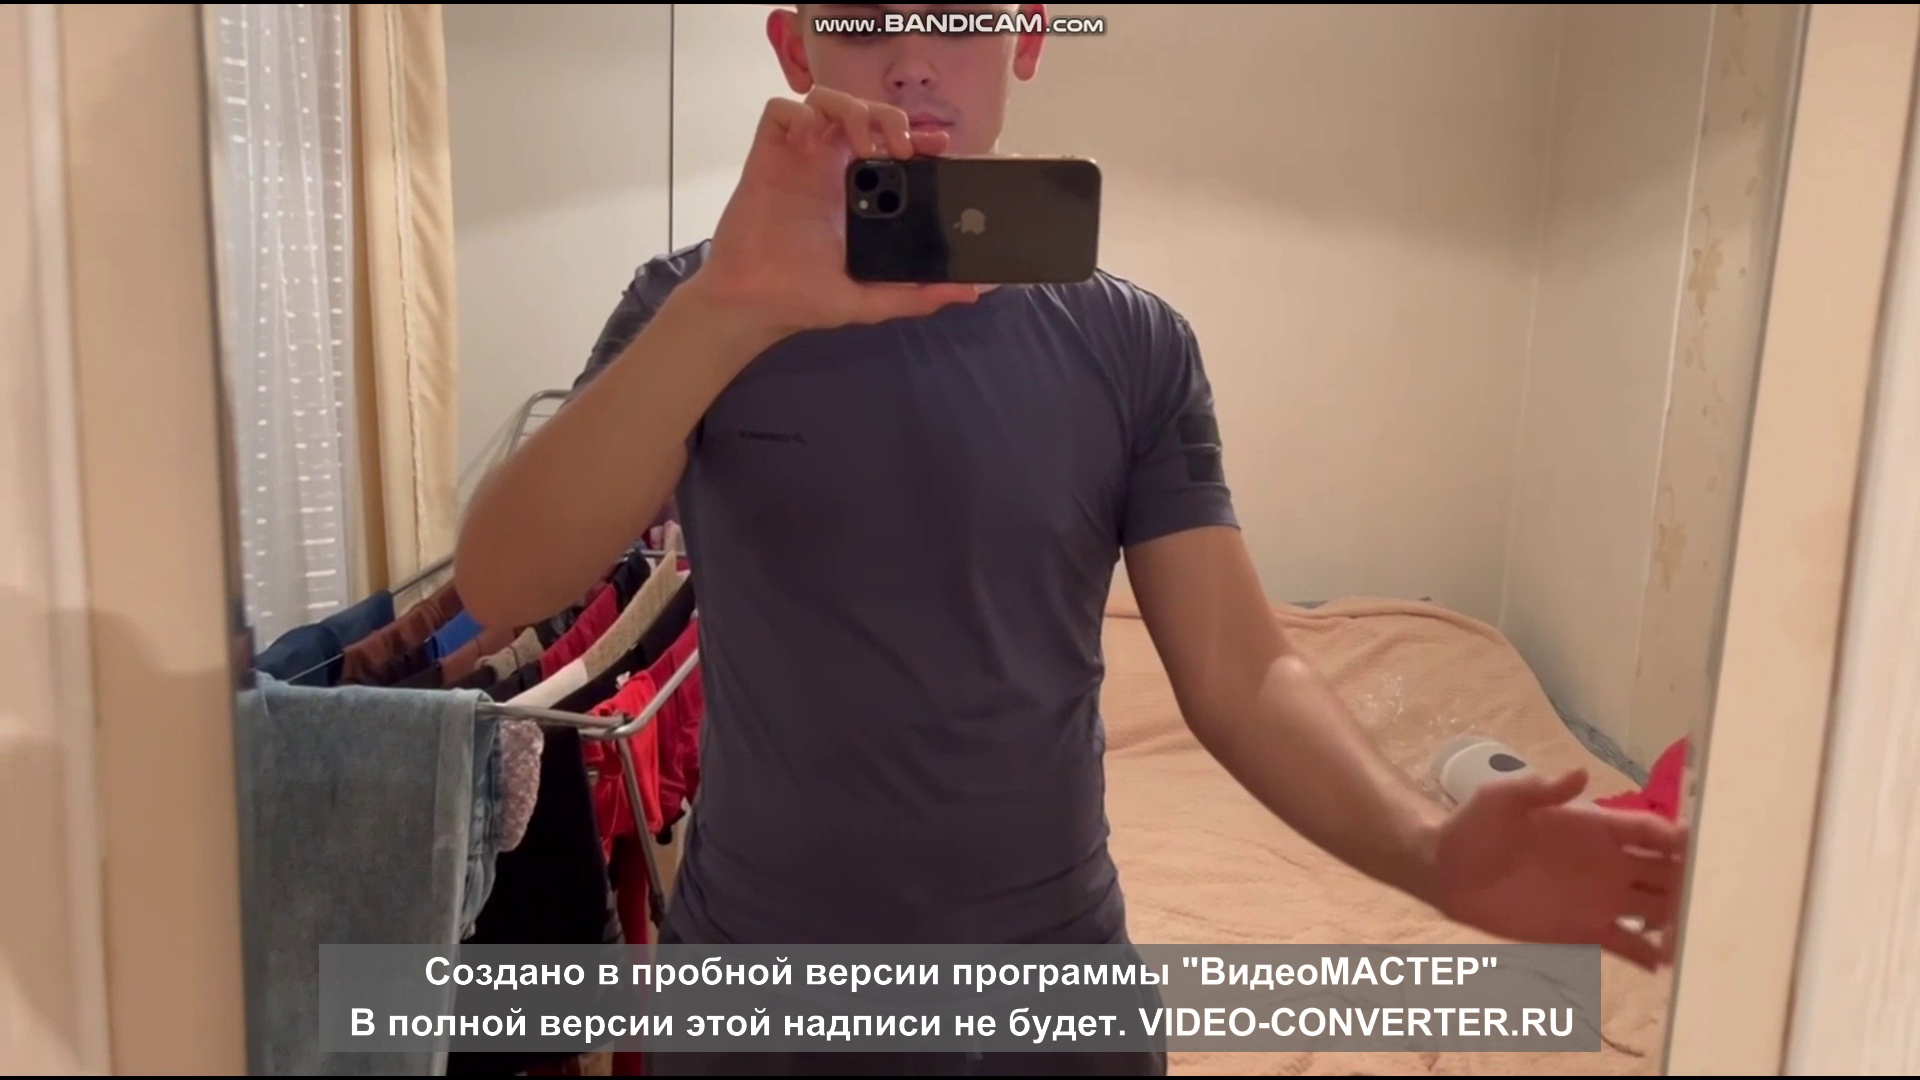Ладонь: (1443, 765, 1687, 943)
